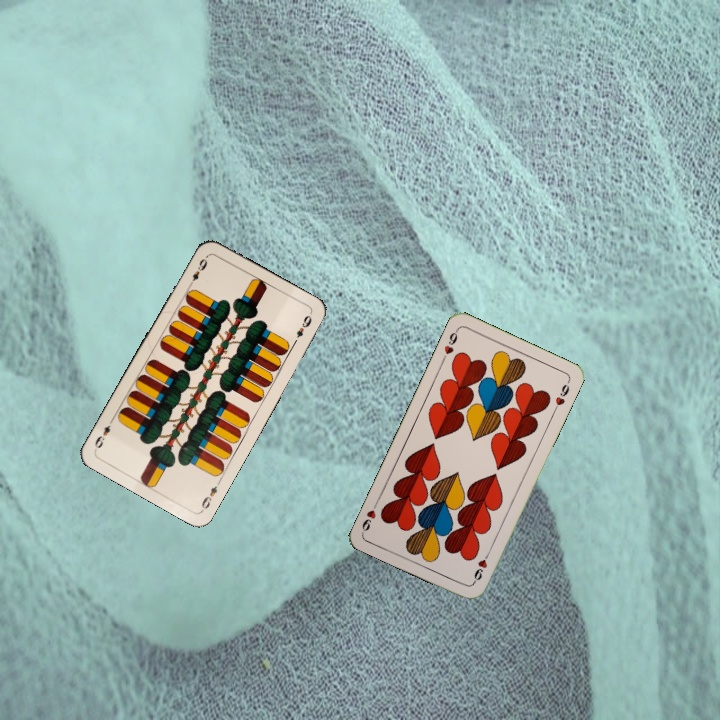E9: (197, 476, 223, 513), (185, 254, 210, 289)
H9: (438, 325, 461, 364), (469, 548, 492, 586)
